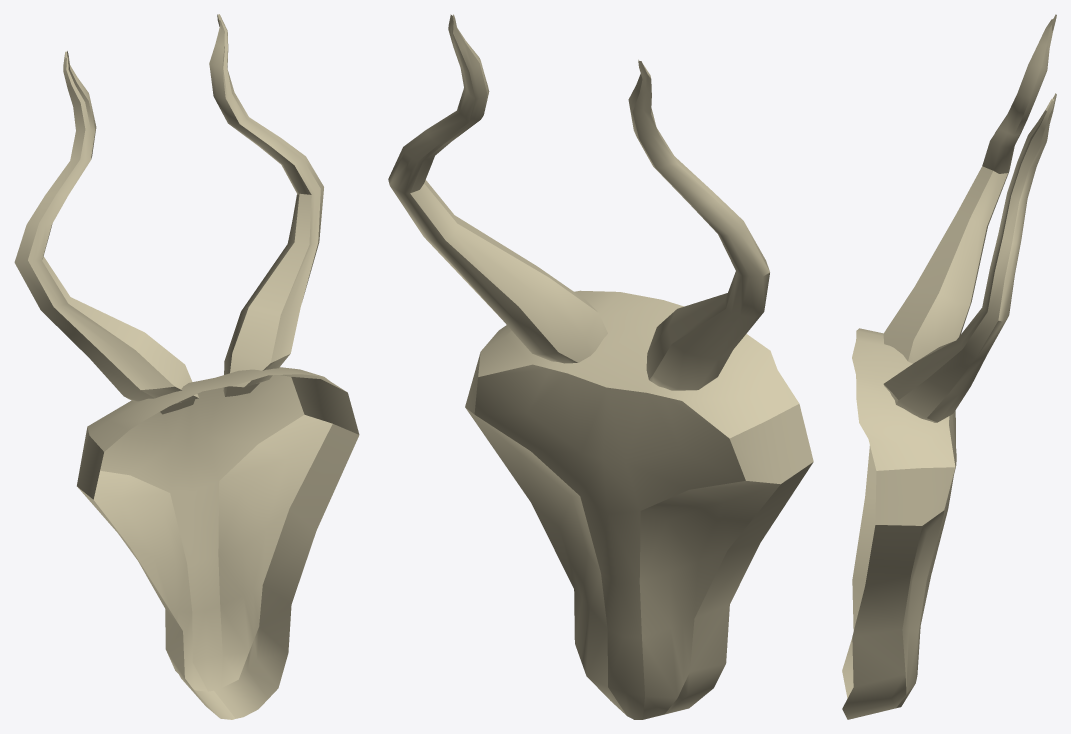
The model's file is goathead.fbx.
3 views of the same model, side by side, from view 1: azimuth 30°, elevation 25°; view 2: azimuth 150°, elevation 25°; view 3: azimuth 270°, elevation 25° (orthographic). The views are drawn at different scales.
Visible parts, largest first — view 1: Kopf; view 2: Kopf; view 3: Kopf.
Boxes of the visible parts, <box> form: Kopf: <box>14,14,359,719</box>; Kopf: <box>388,14,813,719</box>; Kopf: <box>842,14,1056,719</box>.
Bounding box in the file's own units: 40.42 × 77.12 × 22.6.
